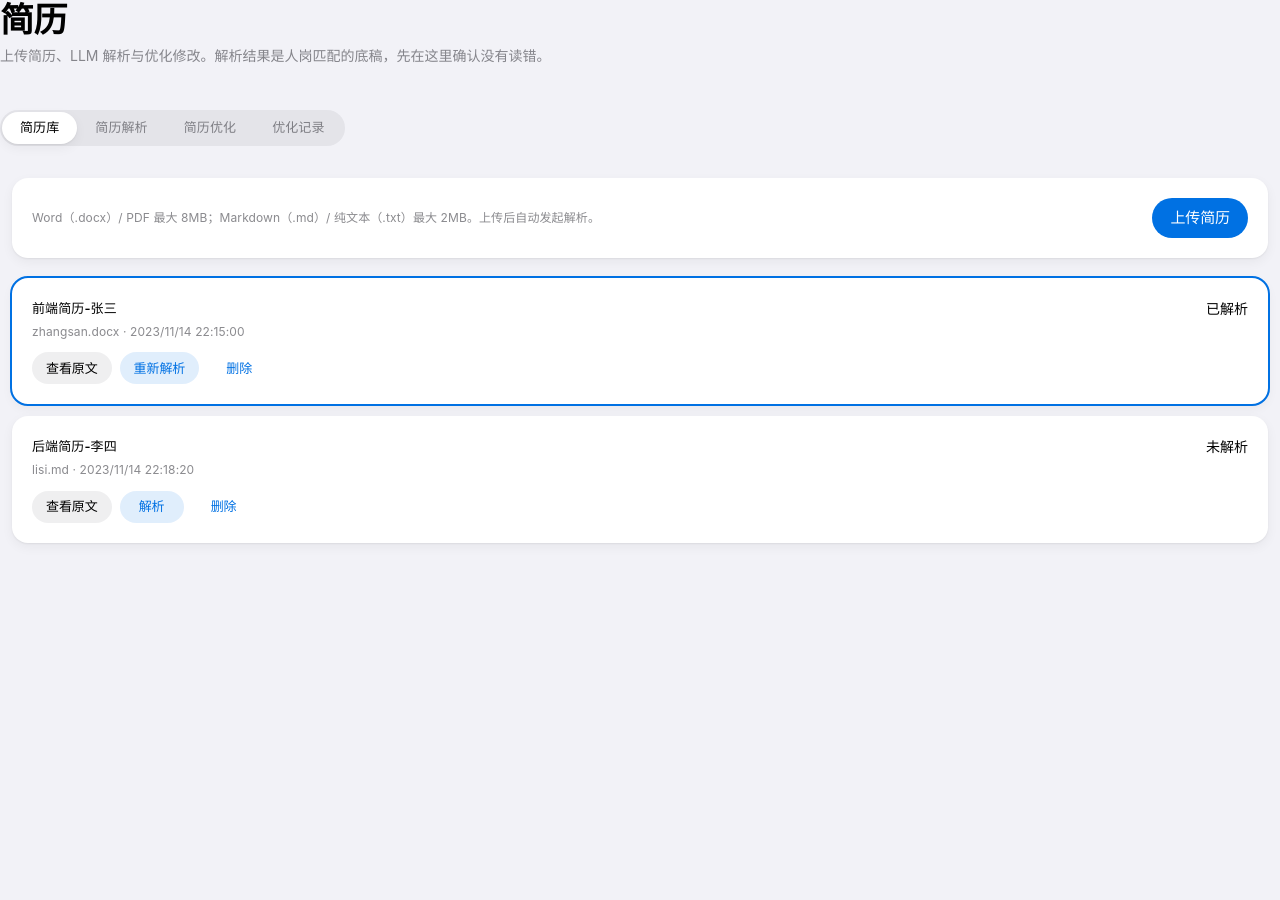
Test case: ResumesPage 优化记录 › 记录列表渲染，查看给 diff 与变更点
The width and height of the screenshot is (1280, 900).
Expected: the button with aria-label "查看原文「前端简历-张三」" is shown, [32,352,112,384]
What coordinates should you click on to do the following:
click the radio button labelled "优化记录"
I would click on:
 (298, 128)
Its box is [254,112,342,144].
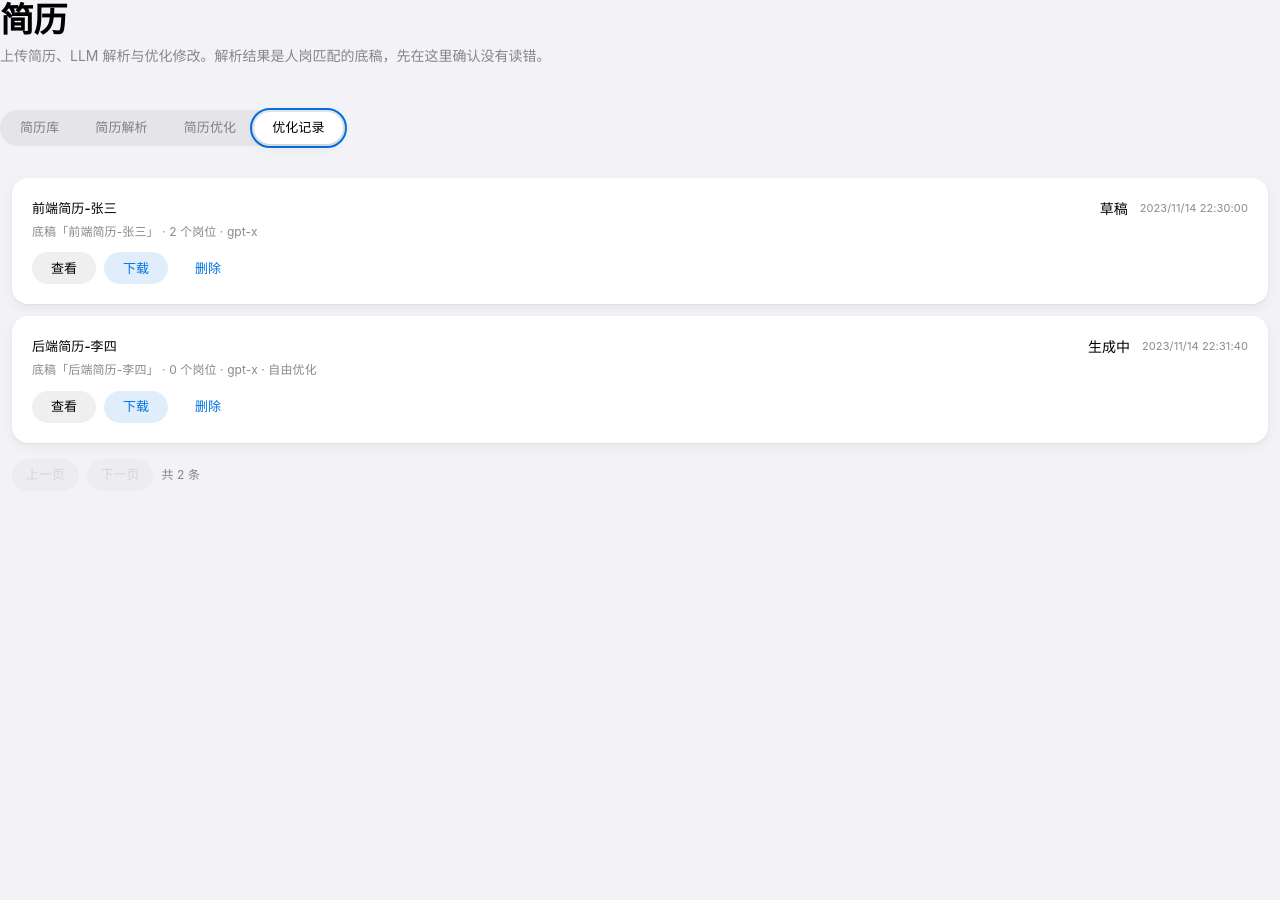
What coordinates should you click on to do the following:
click the button with aria-label "查看「前端简历-张三」"
I would click on:
 (64, 268)
Its box is [32,252,96,284].
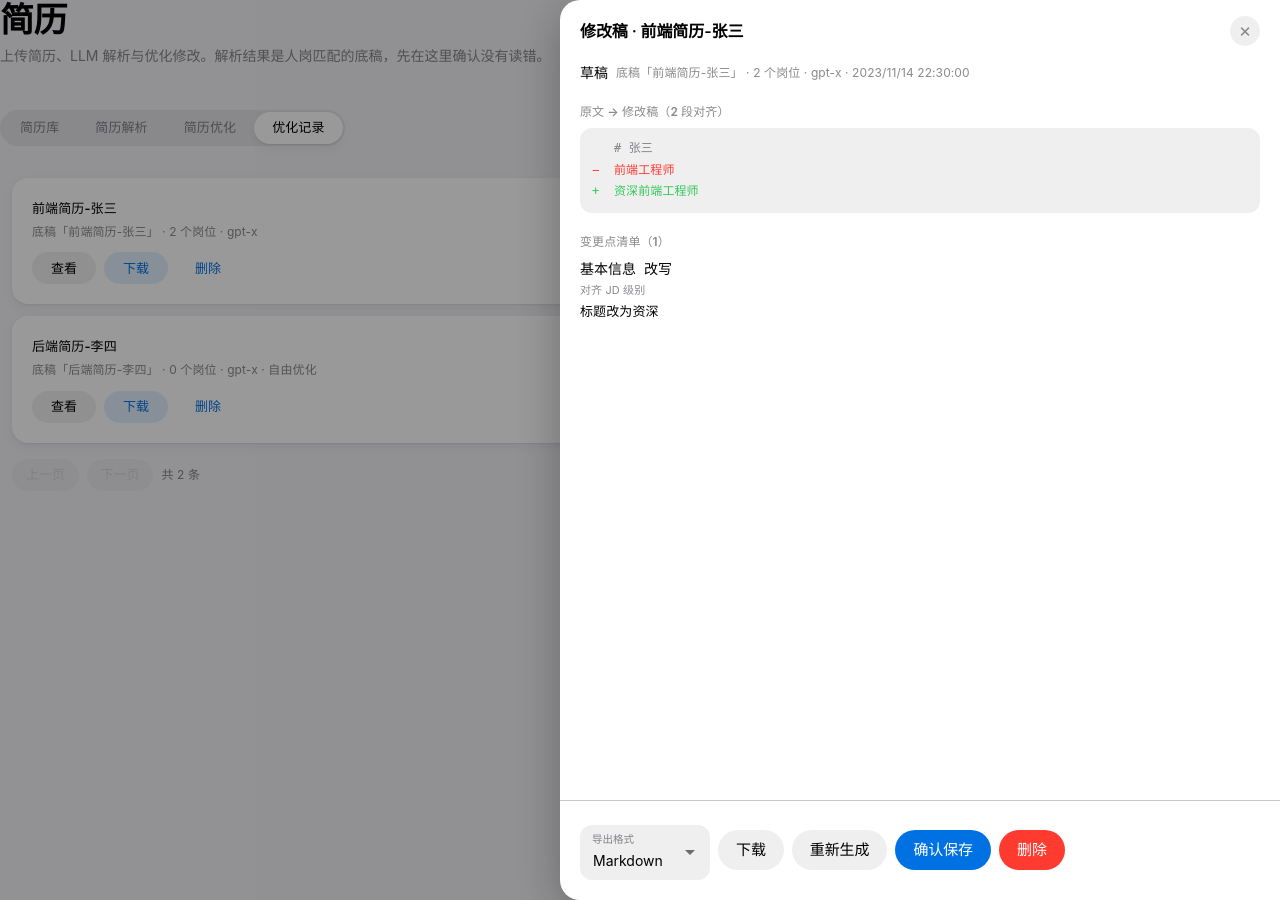
Expected: the text "资深前端工程师" is shown, [614,184,699,198]
Expected: the text "标题改为资深" is shown, [580,303,659,319]
